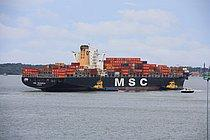Ship: (19, 40, 195, 95)
